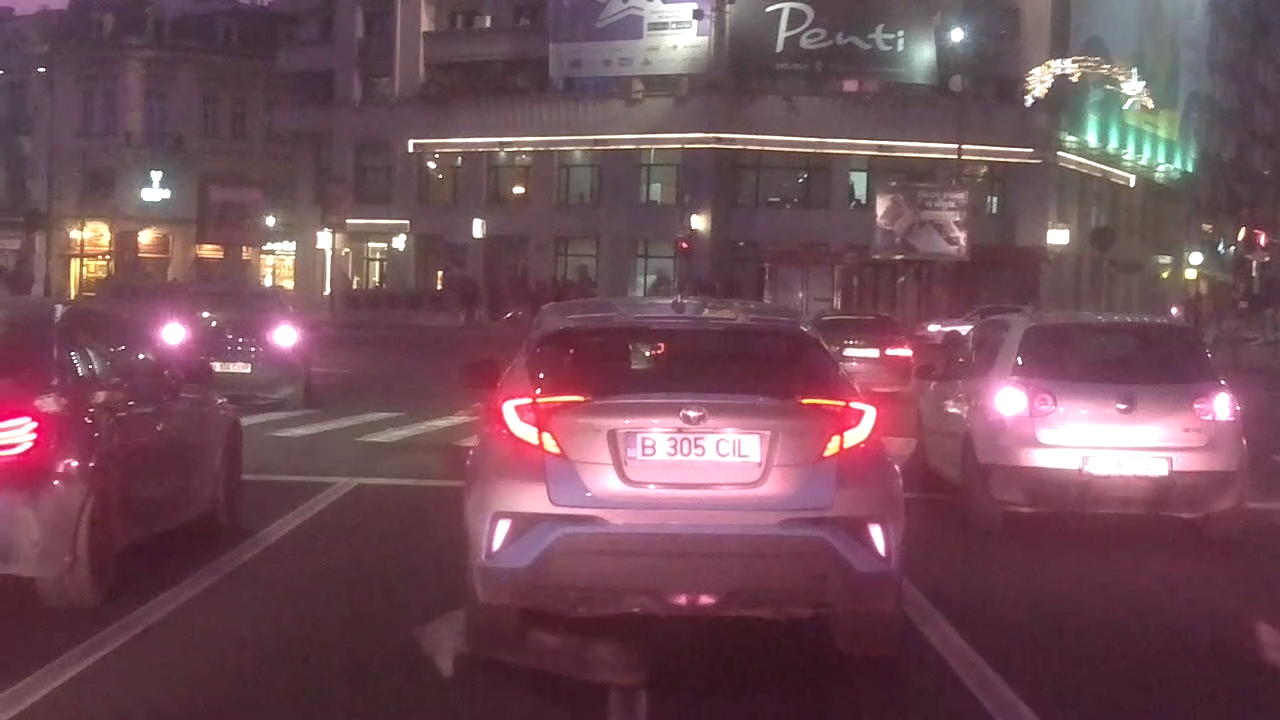license-plate: (622, 429, 764, 464)
